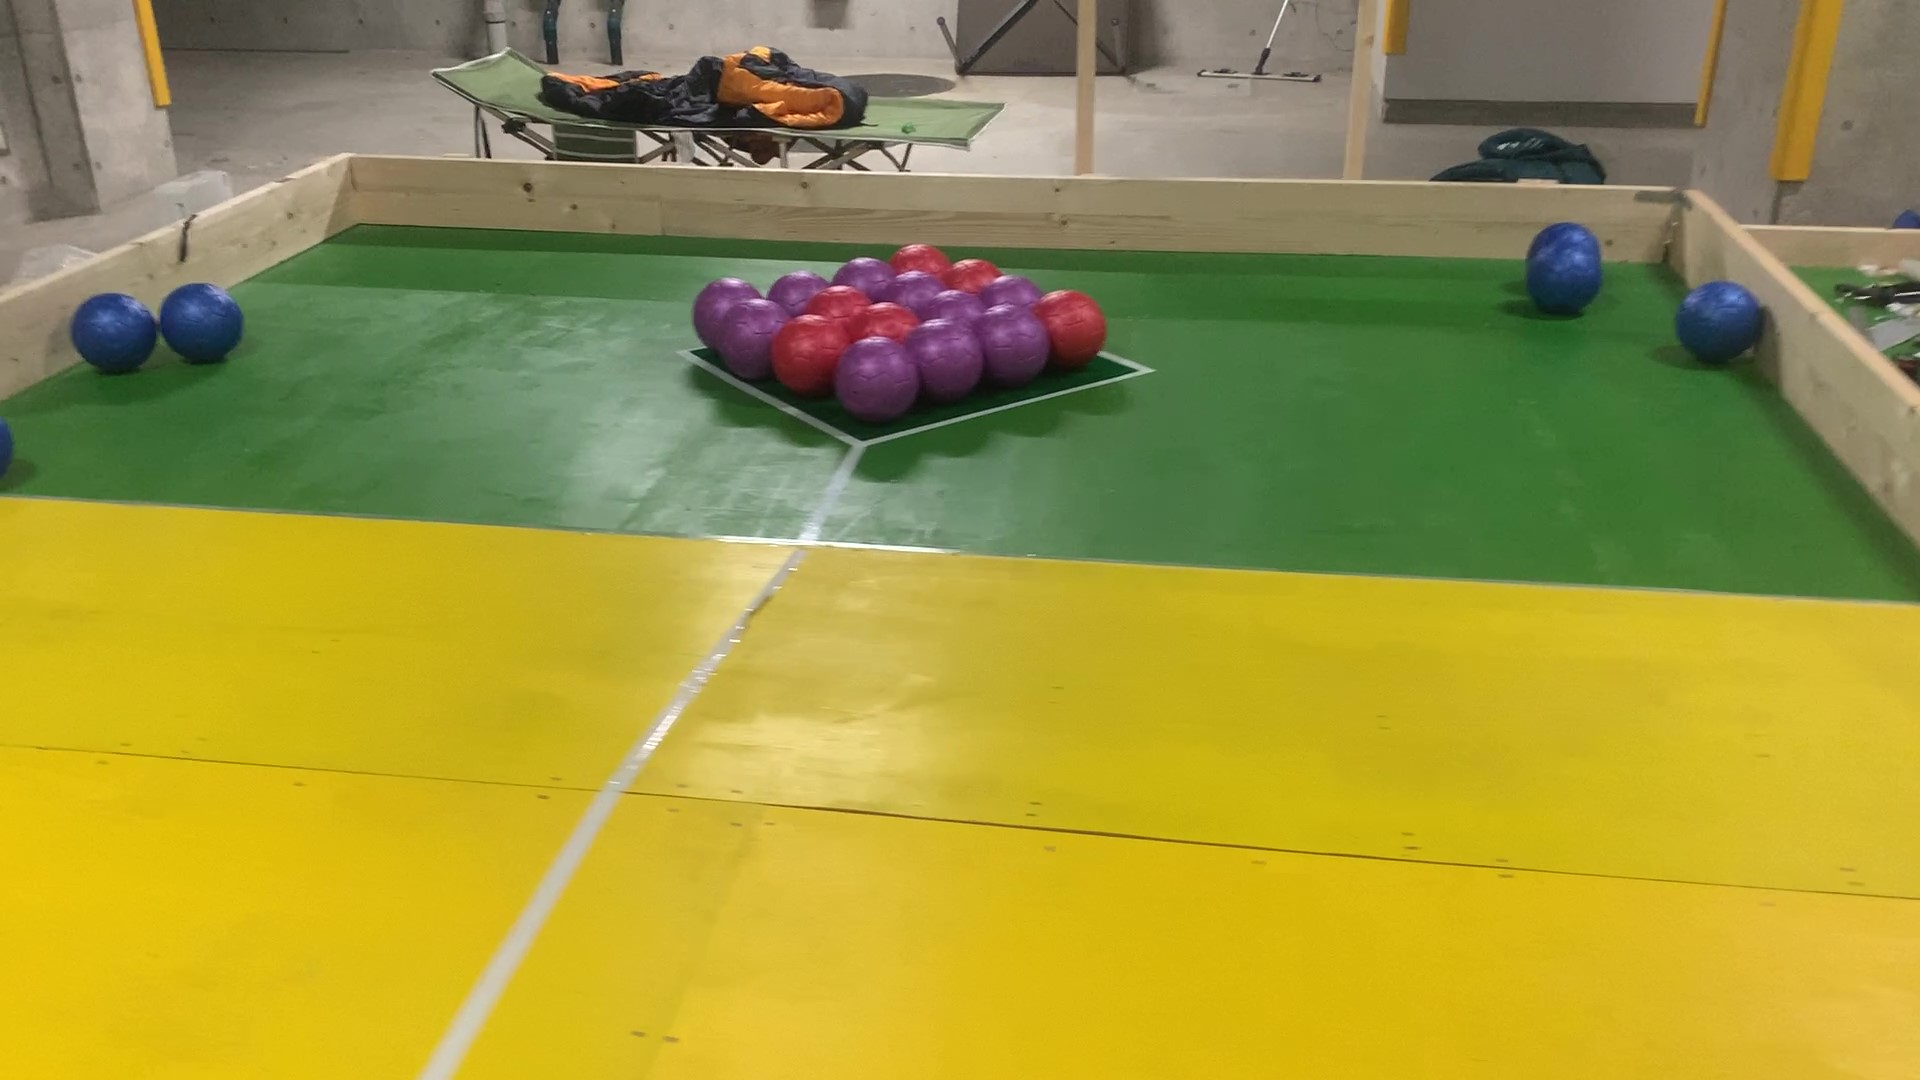blue: (1685, 280, 1755, 359), (69, 299, 149, 363), (170, 287, 241, 356), (1532, 248, 1592, 313), (1, 419, 24, 484), (1535, 222, 1594, 245)
purple: (843, 342, 914, 410), (986, 314, 1038, 381), (727, 309, 775, 376), (924, 326, 977, 388), (698, 282, 727, 345), (998, 274, 1040, 309), (777, 272, 808, 316), (938, 290, 978, 322), (843, 258, 886, 287), (897, 277, 934, 303)
red: (1046, 293, 1102, 367), (782, 323, 839, 393), (862, 305, 907, 338), (953, 257, 997, 289), (815, 290, 862, 318), (891, 243, 940, 266)
